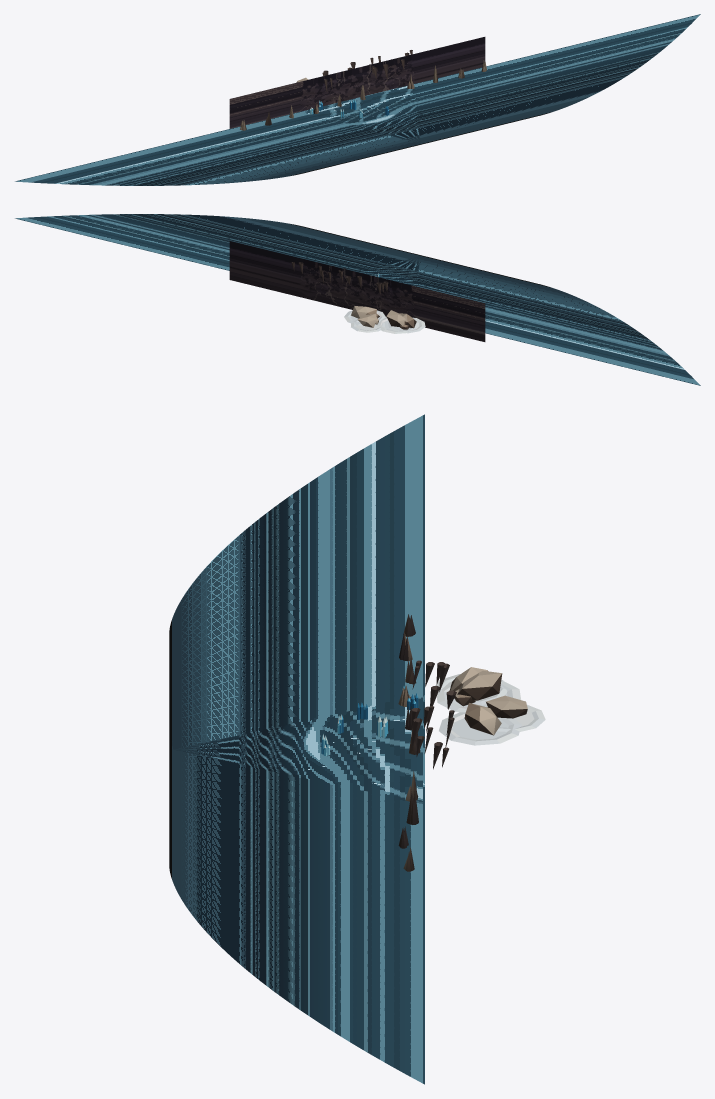
Rendered from bg_cavewater.glb.
The picture shows the model from 3 angles, top to bottom: view 1: azimuth 30°, elevation 25°; view 2: azimuth 150°, elevation 25°; view 3: azimuth 270°, elevation 25°; orthographic projection. The views are drawn at different scales.
Parts seen in each view (by area): view 1: cave_sea, cw_wall, cw_decor, stalactites; view 2: cave_sea, cw_wall, cw_decor, stalactites; view 3: cave_sea, cw_decor, stalactites.
Boxes of the visible parts, bbox=[...] form: cave_sea: bbox=[15, 14, 700, 185]; cw_wall: bbox=[229, 37, 485, 128]; cw_decor: bbox=[240, 59, 486, 130]; stalactites: bbox=[322, 50, 412, 92]; cave_sea: bbox=[15, 214, 700, 385]; cw_wall: bbox=[229, 241, 485, 341]; cw_decor: bbox=[344, 306, 425, 333]; stalactites: bbox=[291, 262, 388, 294]; cave_sea: bbox=[169, 414, 424, 1084]; cw_decor: bbox=[398, 614, 545, 871]; stalactites: bbox=[411, 660, 456, 769].
Size of the model in its own units: 80 by 4.34 by 18.98.
6 materials, 2 textured.
